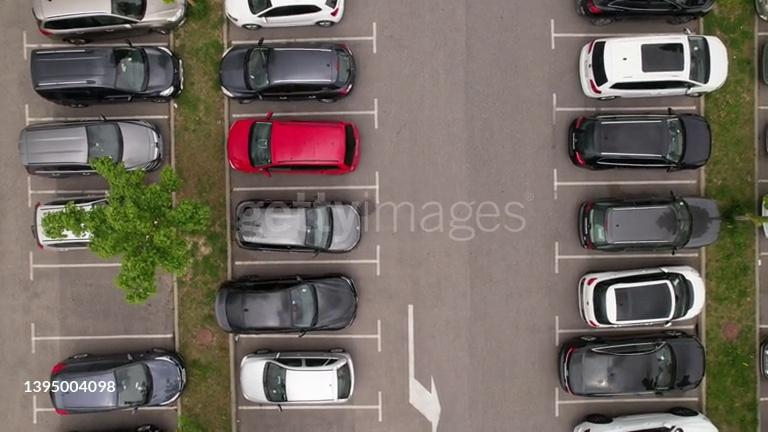car: (49, 349, 185, 413), (562, 334, 701, 396), (31, 47, 180, 104), (21, 119, 163, 175), (578, 265, 704, 326), (570, 113, 708, 168), (221, 44, 352, 101), (224, 123, 366, 175), (241, 351, 353, 404), (34, 1, 184, 40), (34, 196, 108, 247), (225, 1, 340, 29), (580, 0, 712, 24), (574, 409, 718, 431)
